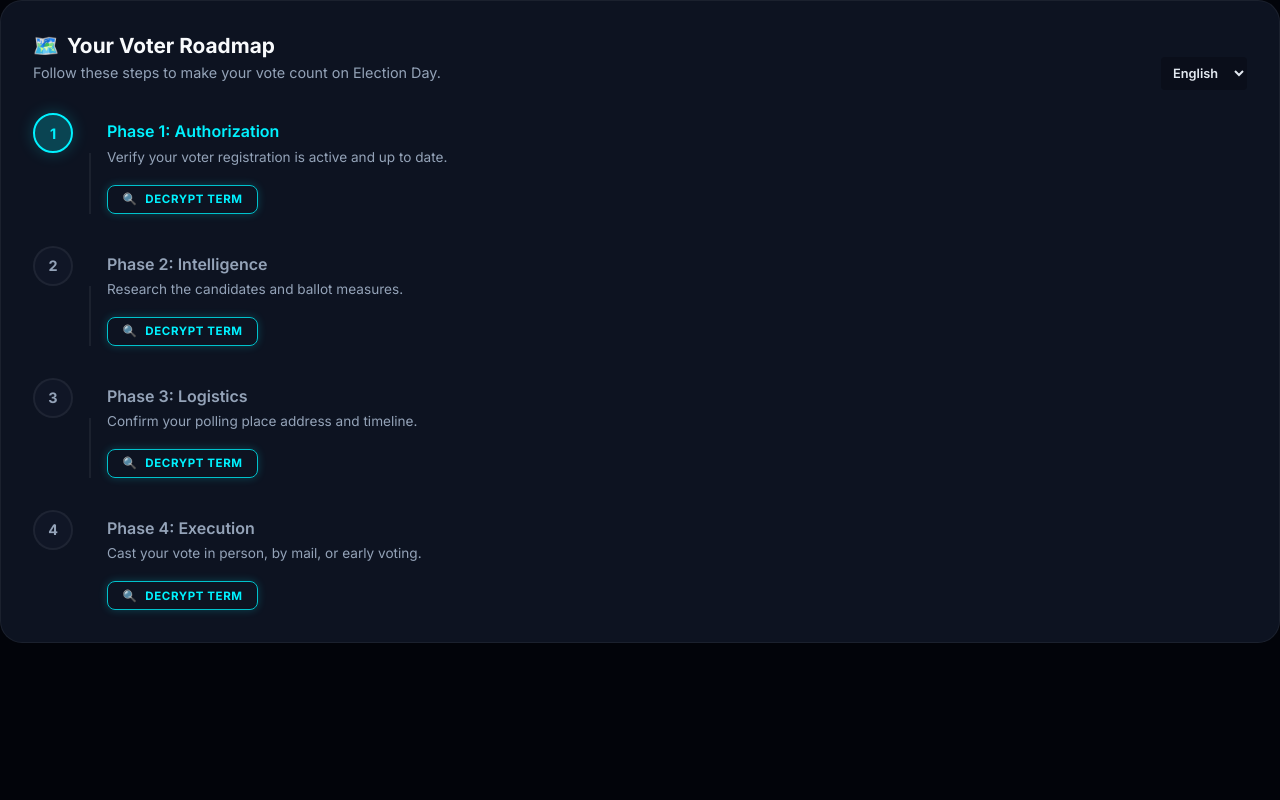
RoadmapStepper › shows error message when Decrypt Term API fails
Click the button with test id "decrypt-term-btn" below "Phase 1: Authorization". click: (182, 199)
box: [107, 185, 258, 214]
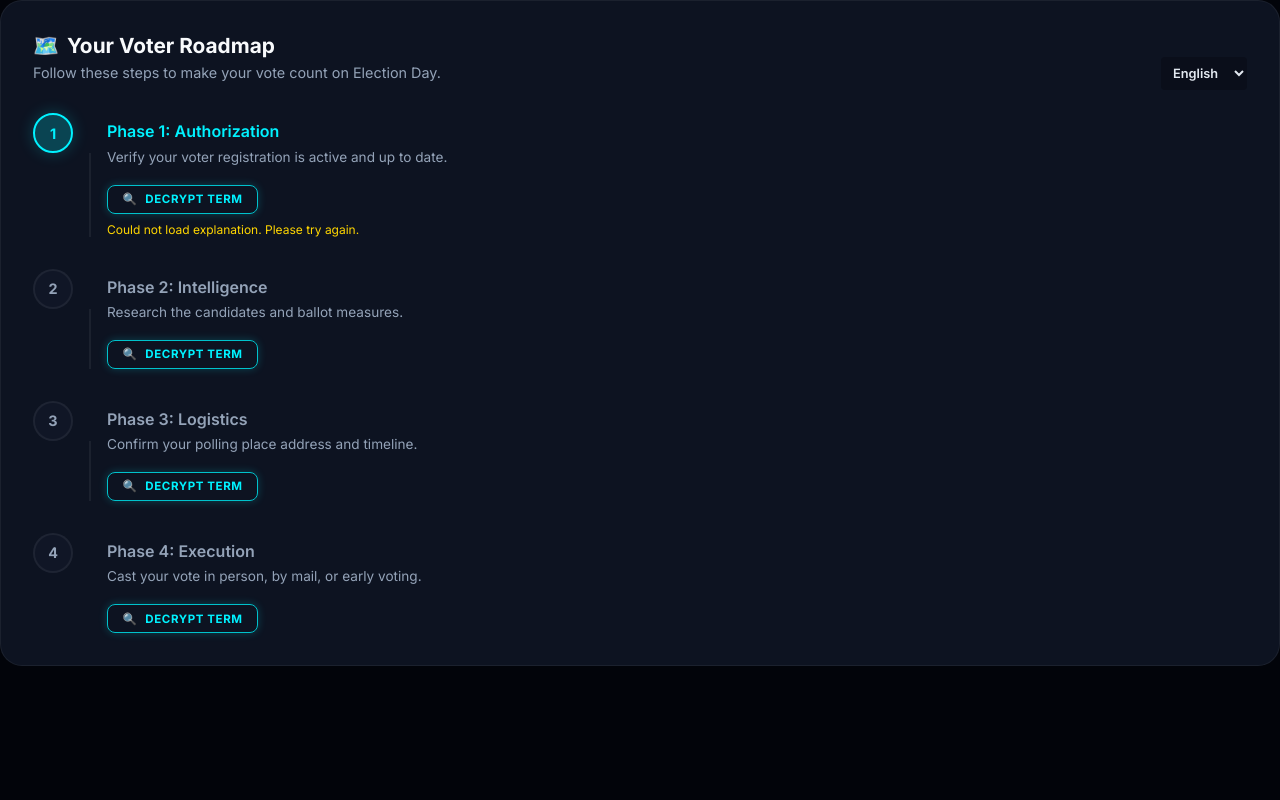
Result: the message "Could not load explanation. Please try again." is shown at [107, 222, 359, 236]
